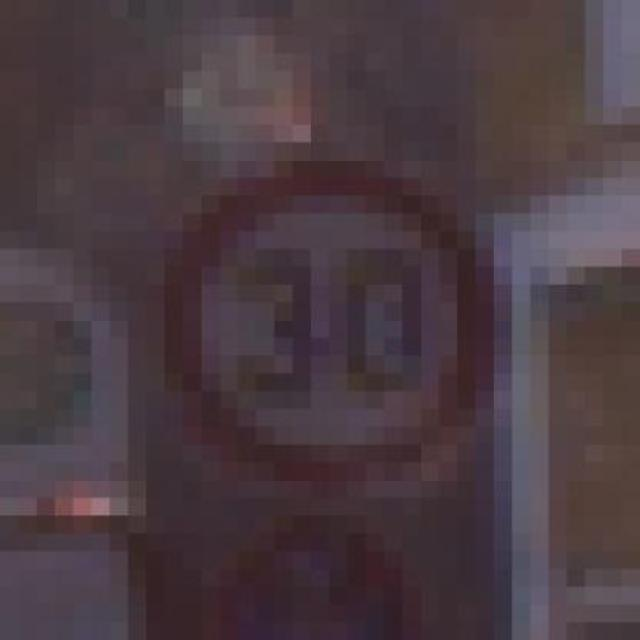Speed Limit 30 KMPh: (128, 89, 530, 498)
